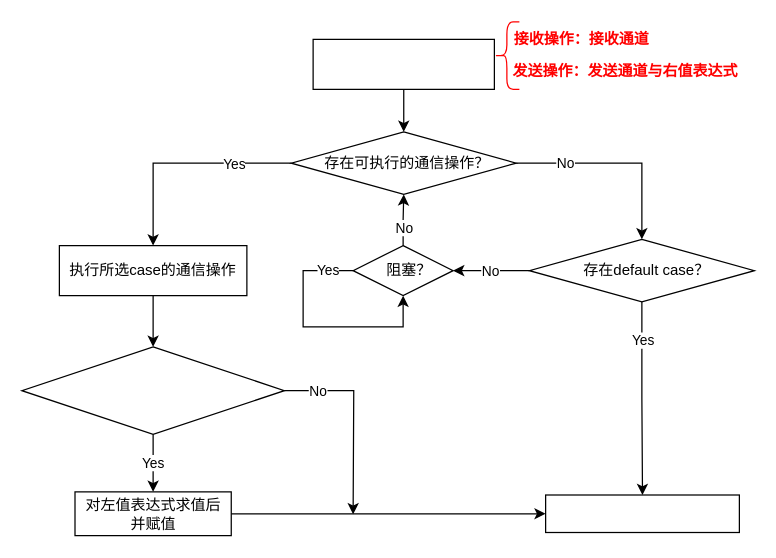
This 776x558 diagram has some shape labels left out. Each missing label, with the centre of its shape:
依次执行case下所有语句: point (641, 513)
带有短变量声明或变量赋值 的接收操作？: point (152, 390)
按顺序对case中的 表达式 进行求值: point (403, 63)
